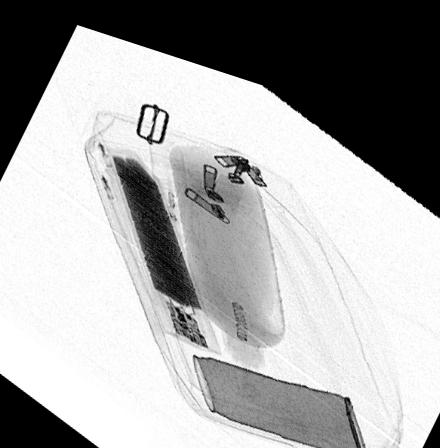Powerbank: (102, 139, 221, 338)
